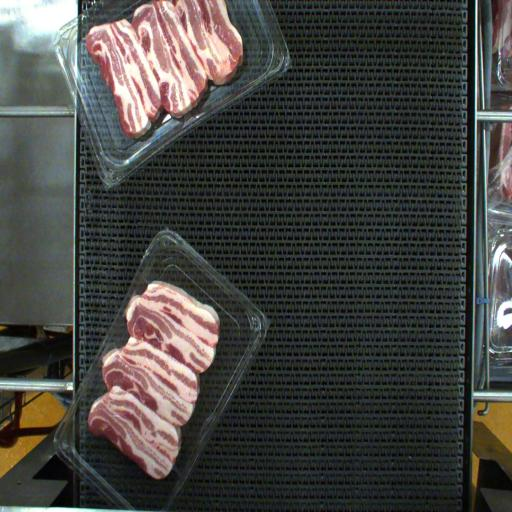packaging-error: (107, 264, 151, 330)
